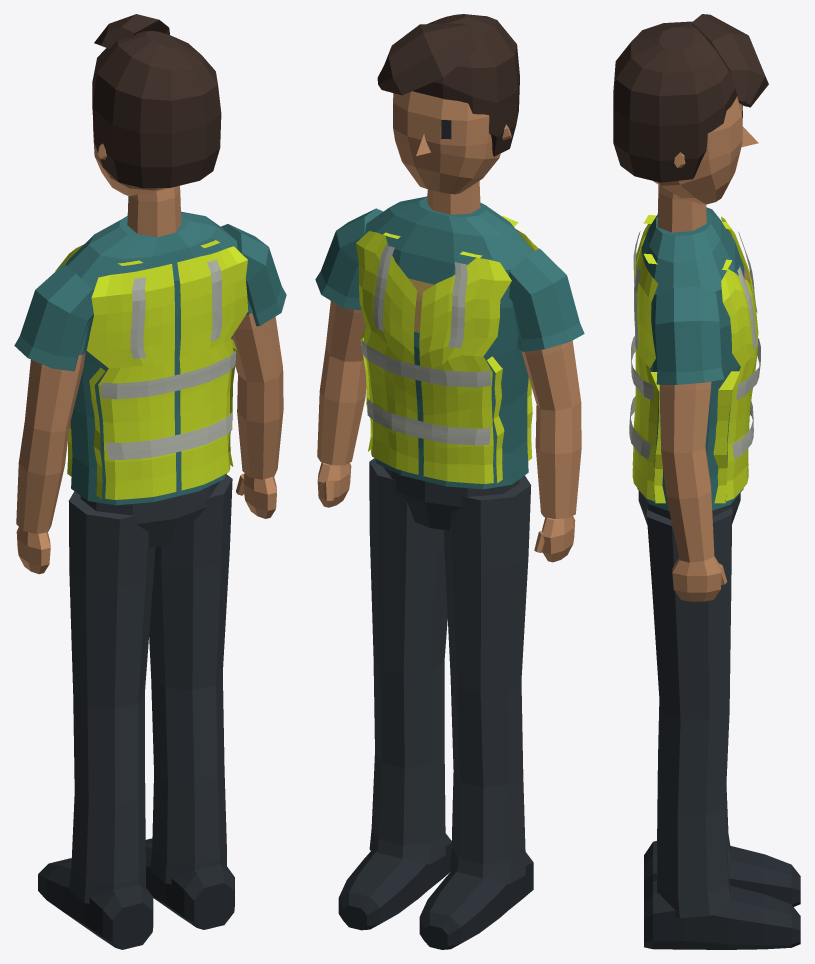
The model's file is lwf_steward_cleanup_male_v1.glb.
3 views of the same model, side by side, from view 1: azimuth 30°, elevation 25°; view 2: azimuth 150°, elevation 25°; view 3: azimuth 270°, elevation 25° (orthographic).
Visible parts, largest first — view 1: LowerBody, UpperBody, FittedVest, LeftForearm, RightForearm, LeftUpperArm, RightUpperArm, RightHand, LeftHand; view 2: LowerBody, UpperBody, FittedVest, LeftForearm, RightForearm, LeftUpperArm, RightUpperArm, LeftHand, RightHand; view 3: UpperBody, LowerBody, FittedVest, RightForearm, RightUpperArm, RightHand.
Boxes of the visible parts, x1=… form: LowerBody: x1=38, y1=474, x2=234, y2=949; UpperBody: x1=14, y1=14, x2=286, y2=505; FittedVest: x1=55, y1=240, x2=248, y2=499; LeftForearm: x1=16, y1=421, x2=69, y2=534; RightForearm: x1=237, y1=368, x2=283, y2=479; LeftUpperArm: x1=25, y1=319, x2=90, y2=432; RightUpperArm: x1=232, y1=299, x2=282, y2=382; RightHand: x1=236, y1=473, x2=276, y2=518; LeftHand: x1=16, y1=527, x2=50, y2=574; LowerBody: x1=338, y1=458, x2=533, y2=949; UpperBody: x1=315, y1=14, x2=584, y2=489; FittedVest: x1=356, y1=216, x2=538, y2=483; LeftForearm: x1=535, y1=401, x2=581, y2=518; RightForearm: x1=317, y1=348, x2=366, y2=465; LeftUpperArm: x1=521, y1=340, x2=580, y2=410; RightUpperArm: x1=325, y1=301, x2=365, y2=361; LeftHand: x1=534, y1=516, x2=575, y2=562; RightHand: x1=317, y1=462, x2=351, y2=507; UpperBody: x1=613, y1=14, x2=768, y2=510; LowerBody: x1=638, y1=491, x2=800, y2=949; FittedVest: x1=629, y1=215, x2=760, y2=503; RightForearm: x1=661, y1=446, x2=714, y2=562; RightUpperArm: x1=659, y1=381, x2=711, y2=453; RightHand: x1=672, y1=556, x2=727, y2=601.
Bounding box in the file's own units: 0.5385 × 1.78 × 0.3364.
2 materials, 2 textured.
